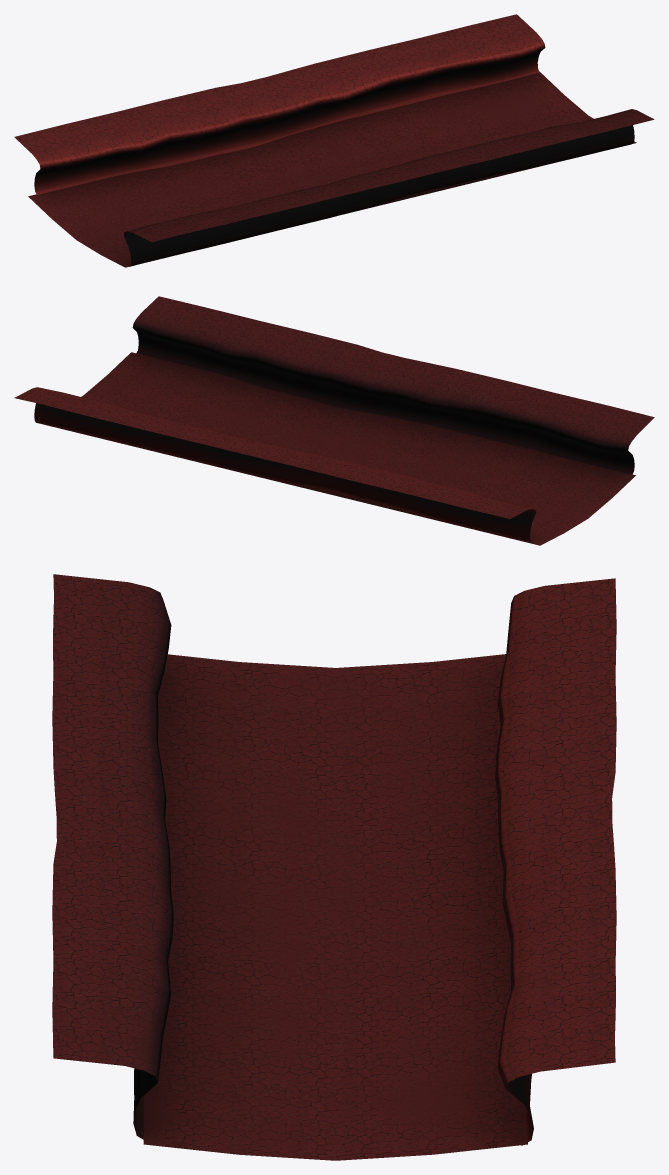
File: crackedfloor placeholder.fbx
3 renders of one model, top to bottom at view 1: azimuth 30°, elevation 25°; view 2: azimuth 150°, elevation 25°; view 3: azimuth 270°, elevation 25°, orthographic. The views are drawn at different scales.
Visible parts, largest first — view 1: Plane; view 2: Plane; view 3: Plane.
Part boxes in pixels (left/top/right/bottom): Plane: left=14, top=14, right=654, bottom=267; Plane: left=14, top=296, right=654, bottom=545; Plane: left=52, top=574, right=616, bottom=1160.
Bounding box in the file's own units: 35366 × 3302 × 17113.
Materials: 1 (1 with a texture image).
